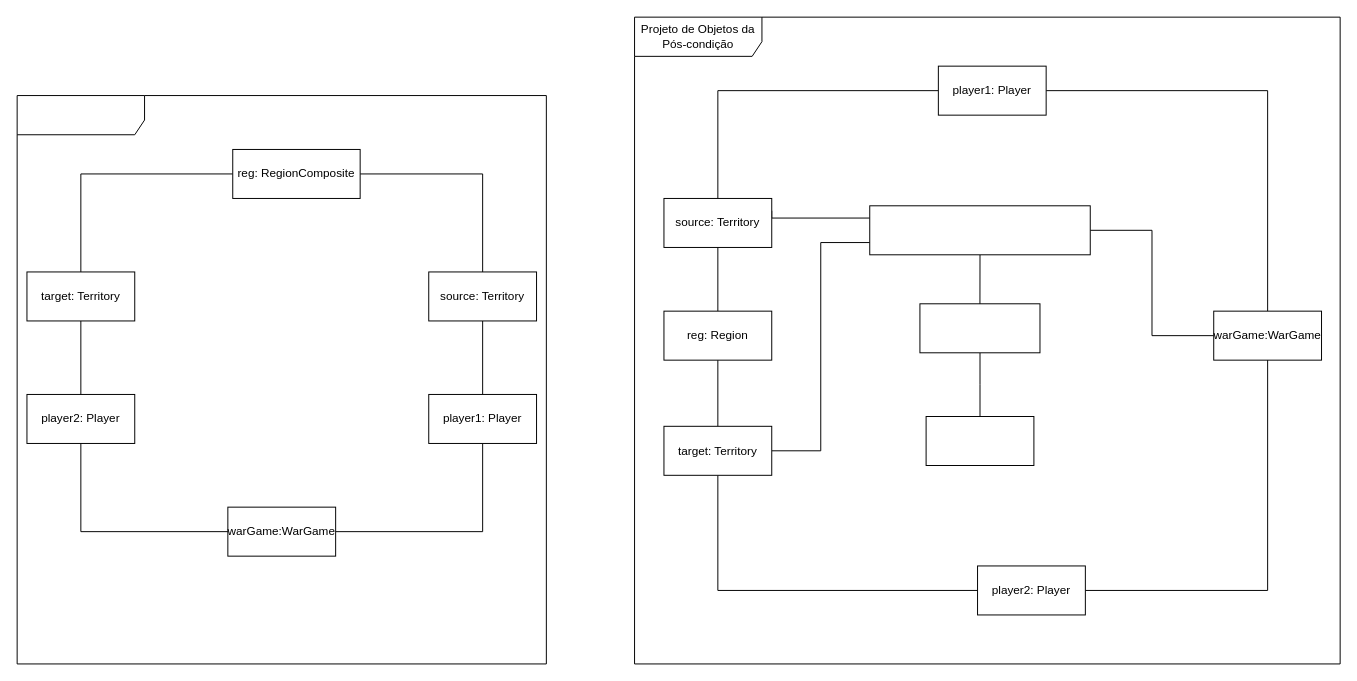
Image size: 1357x681. Some labels were removed from this diagram. The centre of each missing label's shape, as x and y in pixels:
dice: RandomDice: point (979, 441)
diceCon: DiceConfront: point (979, 328)
Projeto de Objetos da Pré-condição: point (281, 379)
warGameAttackPhase:WarGameState: point (979, 230)
